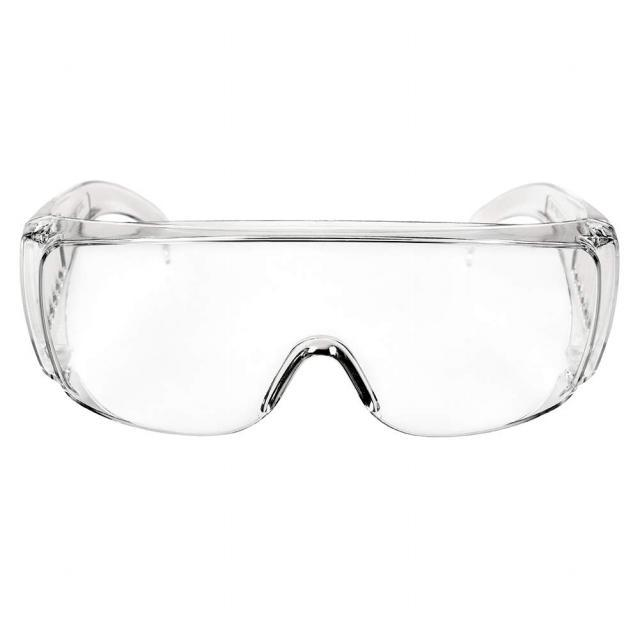Goggles: (11, 170, 623, 443)
